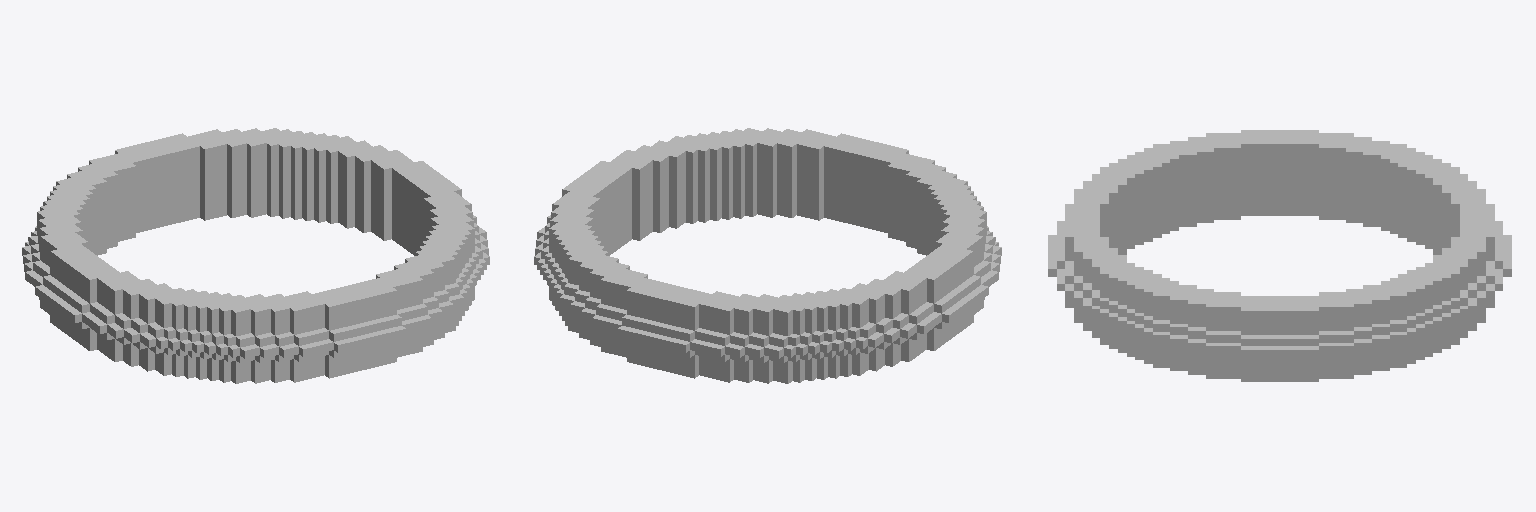
Rendered from Oring2.obj.
3 renders of one model, left to right at view 1: azimuth 30°, elevation 25°; view 2: azimuth 150°, elevation 25°; view 3: azimuth 270°, elevation 25°, orthographic.
Parts seen in each view (by area): view 1: object 1; view 2: object 1; view 3: object 1.
Part boxes in pixels (bbox=[...]): object 1: bbox=[22, 128, 489, 383]; object 1: bbox=[534, 128, 1001, 383]; object 1: bbox=[1048, 130, 1511, 381].
Size of the model in its own units: 5.3 by 0.9 by 5.3.